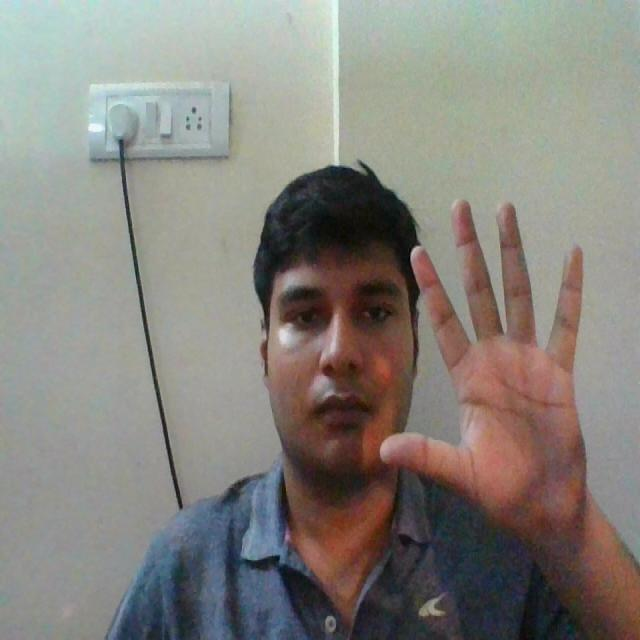Hello: (375, 212, 620, 534)
